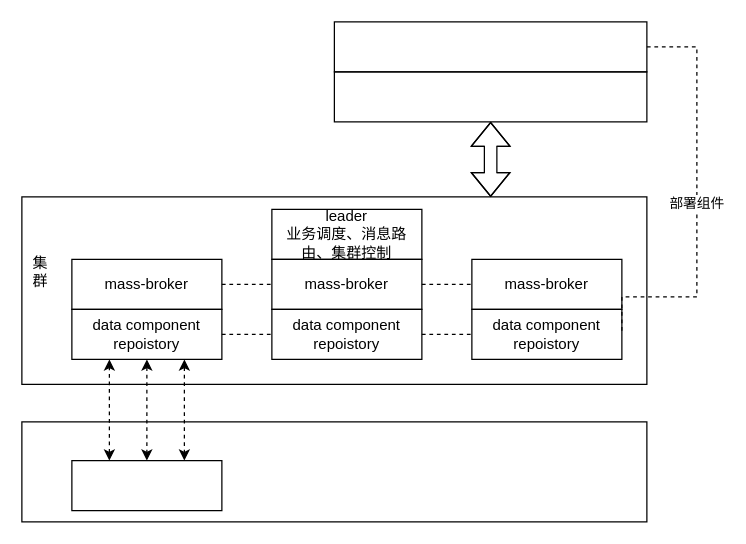
Some shapes in this 746 by 544 pixel diagram are drawn without their labels. Each missing label, with the centre of its shape:
"choreography 业务编排" belongs at pixel 490 46.
"mass-console 监察、管理" belongs at pixel 490 96.
"调用数据组件执行" belongs at pixel 146 485.
